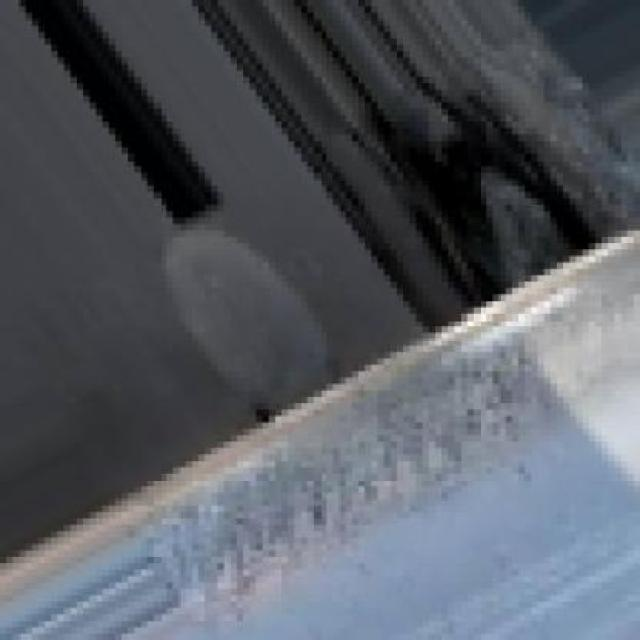defective: (6, 224, 640, 640)
